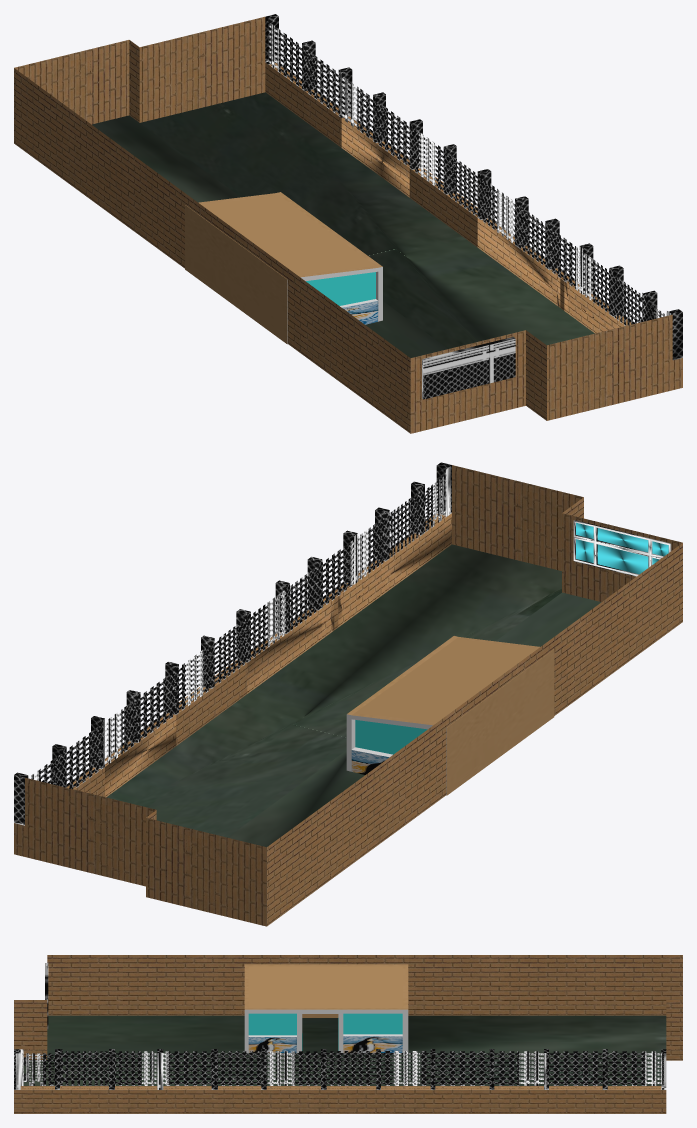
Rendered from Entorno2.fbx.
3 views of the same model, one above another, from view 1: azimuth 30°, elevation 25°; view 2: azimuth 150°, elevation 25°; view 3: azimuth 270°, elevation 25° (orthographic). The views are drawn at different scales.
Visible parts, largest first — view 1: paredes ladriloo, piso, Cube.003, Cube.001, Cube.002; view 2: paredes ladriloo, piso, Cube.003, Cube.001, Cube.002, Cube.005, Cube.004; view 3: paredes ladriloo, piso, Cube.003, Cube.001.
Part boxes in pixels (x1=…): paredes ladriloo: x1=14, y1=16, x2=682, y2=433; piso: x1=92, y1=92, x2=628, y2=357; Cube.003: x1=265, y1=14, x2=682, y2=360; Cube.001: x1=185, y1=192, x2=382, y2=344; Cube.002: x1=341, y1=118, x2=624, y2=333; paredes ladriloo: x1=14, y1=465, x2=682, y2=926; piso: x1=106, y1=501, x2=601, y2=847; Cube.003: x1=14, y1=462, x2=451, y2=825; Cube.001: x1=346, y1=636, x2=554, y2=795; Cube.002: x1=105, y1=513, x2=451, y2=797; Cube.005: x1=576, y1=522, x2=668, y2=574; Cube.004: x1=573, y1=520, x2=670, y2=576; paredes ladriloo: x1=14, y1=955, x2=682, y2=1113; piso: x1=23, y1=1015, x2=666, y2=1085; Cube.003: x1=14, y1=1049, x2=666, y2=1089; Cube.001: x1=244, y1=964, x2=408, y2=1052.
Bounding box in the file's own units: 5010 × 1458 × 14390.
Materials: 9 (5 with a texture image).
